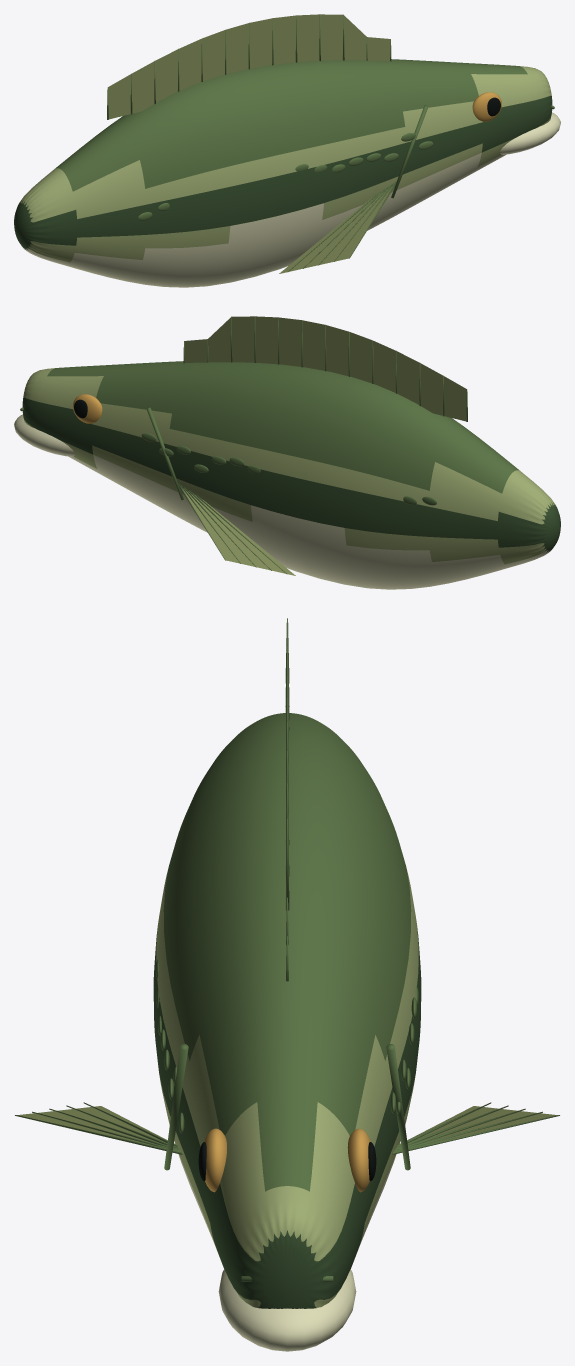
Rendered from SM_BassBody.fbx.
3 views of the same model, one above another, from view 1: azimuth 30°, elevation 25°; view 2: azimuth 150°, elevation 25°; view 3: azimuth 270°, elevation 25° (orthographic). The views are drawn at different scales.
Visible parts, largest first — view 1: SM_BassBody; view 2: SM_BassBody; view 3: SM_BassBody.
Part boxes in pixels (<box>): SM_BassBody: <box>14,14,560,287</box>; SM_BassBody: <box>14,316,560,589</box>; SM_BassBody: <box>15,618,559,1351</box>.
Size of the model in its own units: 43.73 by 19.03 by 19.27.
